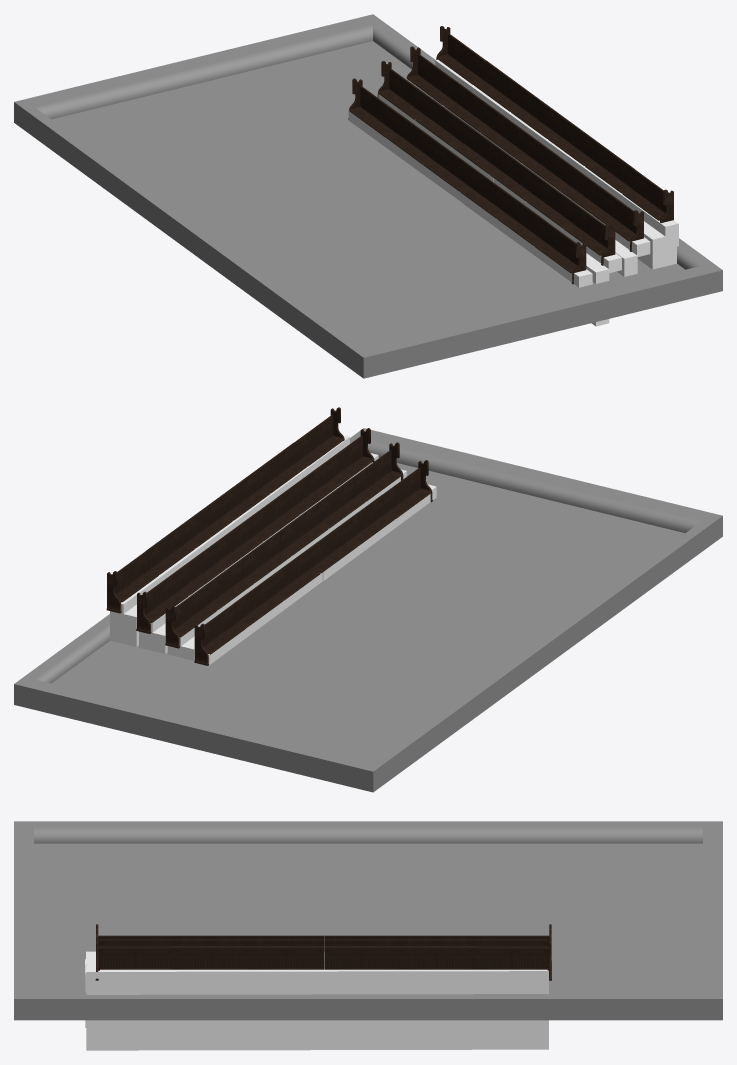
File: UnderBenchTemplate.fbx
3 renders of one model, top to bottom at view 1: azimuth 30°, elevation 25°; view 2: azimuth 150°, elevation 25°; view 3: azimuth 270°, elevation 25°, orthographic.
Visible parts, largest first — view 1: Bottom, Bench__19_, Bench_LO_FULL:Mesh_13, Bench_LO_FULL:Mesh_7, Bench_LO_FULL:Mesh_4, Bench_LO_FULL:Mesh_19, Bench_LO_FULL:Mesh_8, Bench_LO_FULL:Mesh_23, Bench_LO_FULL:Mesh_20, Bench_LO_FULL:Mesh_14, Bench__5_, Bench_LO_FULL:Mesh (+20 smaller); view 2: Bottom, Bench_LO_FULL:Mesh_7, Bench_LO_FULL:Mesh_4, Bench_LO_FULL:Mesh_19, Bench_LO_FULL:Mesh_13, Bench_LO_FULL:Mesh_23, Bench_LO_FULL:Mesh_8, Bench_LO_FULL:Mesh_14, Bench_LO_FULL:Mesh_20, Bench__39_, Bench_LO_FULL:Mesh_17, Bench_LO_FULL:Mesh_1 (+18 smaller); view 3: Bottom, Bench__19_, Bench__39_, Bench_LO_FULL:Mesh_19, Bench_LO_FULL:Mesh_20, Bench_LO_FULL:Mesh_18, Bench_LO_FULL:Mesh_21, Bench_LO_FULL:Mesh_22, Bench_LO_FULL:Mesh_17, Bench_LO_FULL:Mesh_7, Bench_LO_FULL:Mesh_8, Bench_LO_FULL:Mesh_6 (+5 smaller).
Part boxes in pixels (x1=…): Bottom: x1=14, y1=14, x2=722, y2=378; Bench__19_: x1=550, y1=143, x2=678, y2=266; Bench_LO_FULL:Mesh_13: x1=406, y1=46, x2=456, y2=105; Bench_LO_FULL:Mesh_7: x1=377, y1=61, x2=427, y2=119; Bench_LO_FULL:Mesh_4: x1=348, y1=78, x2=398, y2=137; Bench_LO_FULL:Mesh_19: x1=436, y1=26, x2=485, y2=84; Bench_LO_FULL:Mesh_8: x1=563, y1=204, x2=615, y2=265; Bench_LO_FULL:Mesh_23: x1=534, y1=222, x2=586, y2=284; Bench_LO_FULL:Mesh_20: x1=622, y1=169, x2=673, y2=222; Bench_LO_FULL:Mesh_14: x1=592, y1=190, x2=643, y2=251; Bench__5_: x1=463, y1=195, x2=592, y2=287; Bench_LO_FULL:Mesh: x1=497, y1=194, x2=546, y2=245; Bottom: x1=14, y1=428, x2=722, y2=792; Bench_LO_FULL:Mesh_7: x1=165, y1=586, x2=217, y2=648; Bench_LO_FULL:Mesh_4: x1=194, y1=603, x2=246, y2=665; Bench_LO_FULL:Mesh_19: x1=106, y1=551, x2=158, y2=613; Bench_LO_FULL:Mesh_13: x1=136, y1=571, x2=188, y2=633; Bench_LO_FULL:Mesh_23: x1=382, y1=460, x2=432, y2=518; Bench_LO_FULL:Mesh_8: x1=353, y1=442, x2=403, y2=501; Bench_LO_FULL:Mesh_14: x1=324, y1=428, x2=374, y2=486; Bench_LO_FULL:Mesh_20: x1=295, y1=407, x2=344, y2=466; Bench__39_: x1=110, y1=520, x2=236, y2=643; Bench_LO_FULL:Mesh_17: x1=220, y1=469, x2=269, y2=520; Bench_LO_FULL:Mesh_1: x1=308, y1=522, x2=357, y2=573; Bottom: x1=14, y1=821, x2=722, y2=1020; Bench__19_: x1=86, y1=965, x2=317, y2=1050; Bench__39_: x1=317, y1=965, x2=548, y2=1049; Bench_LO_FULL:Mesh_19: x1=474, y1=936, x2=551, y2=980; Bench_LO_FULL:Mesh_20: x1=95, y1=936, x2=173, y2=980; Bench_LO_FULL:Mesh_18: x1=399, y1=947, x2=474, y2=969; Bench_LO_FULL:Mesh_21: x1=173, y1=947, x2=248, y2=969; Bench_LO_FULL:Mesh_22: x1=324, y1=947, x2=399, y2=969; Bench_LO_FULL:Mesh_17: x1=249, y1=947, x2=323, y2=969; Bench_LO_FULL:Mesh_7: x1=474, y1=928, x2=551, y2=970; Bench_LO_FULL:Mesh_8: x1=96, y1=928, x2=173, y2=946; Bench_LO_FULL:Mesh_6: x1=399, y1=939, x2=474, y2=945.
Size of the model in its own units: 1253 by 425 by 2112.
